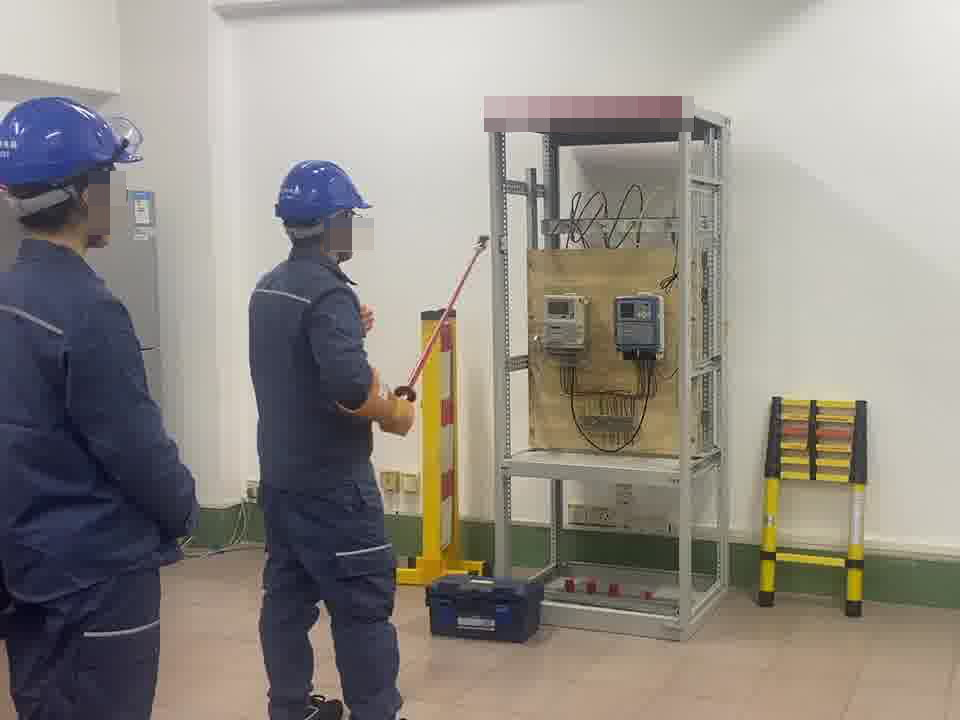downsuit: (256, 502, 410, 720), (4, 570, 160, 720)
halt: (1, 95, 134, 249), (273, 158, 371, 263)
inear: (68, 176, 109, 232), (326, 203, 351, 253)
longglove: (333, 365, 420, 438)
person: (1, 88, 209, 720), (243, 155, 423, 720)
testrod: (394, 235, 492, 400)
upsuit: (1, 232, 207, 615), (247, 256, 381, 497)
